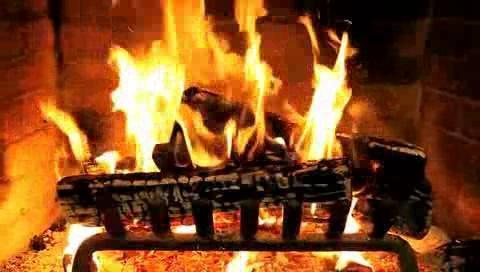fire: (6, 4, 456, 264)
